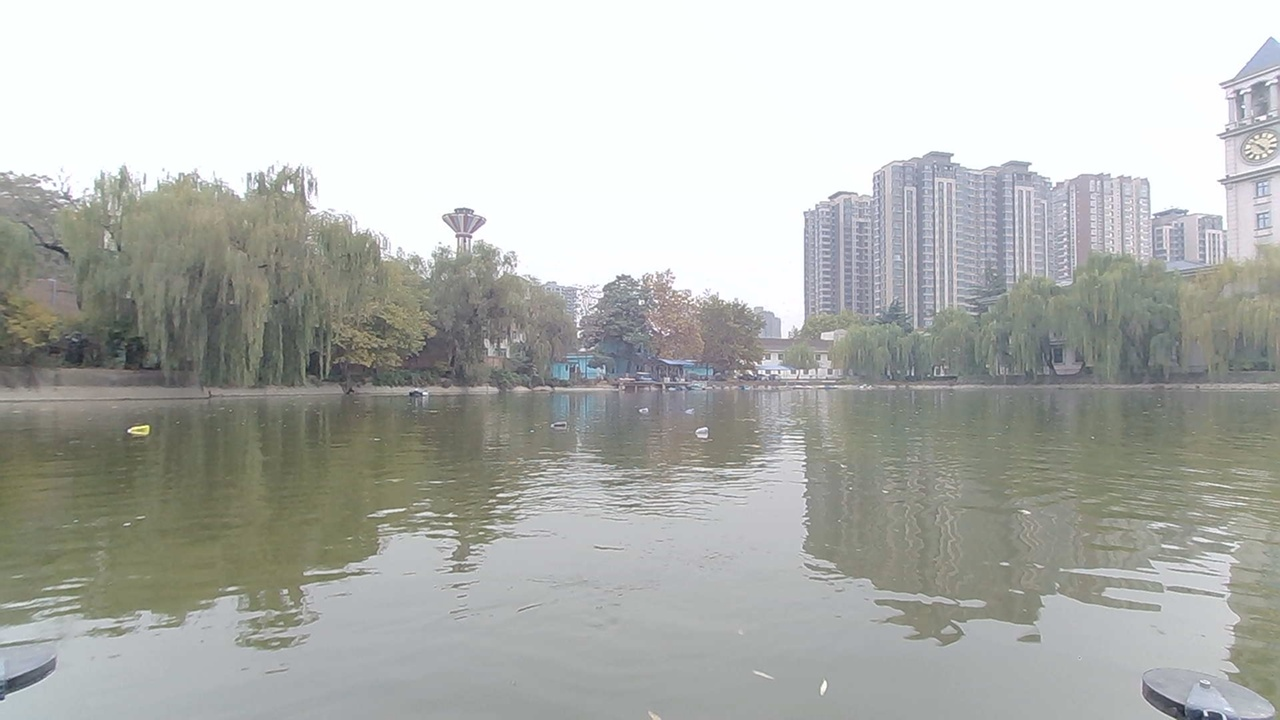bottle: (122, 418, 164, 442), (549, 409, 579, 431), (688, 420, 718, 441), (676, 400, 709, 417), (634, 396, 656, 415)
